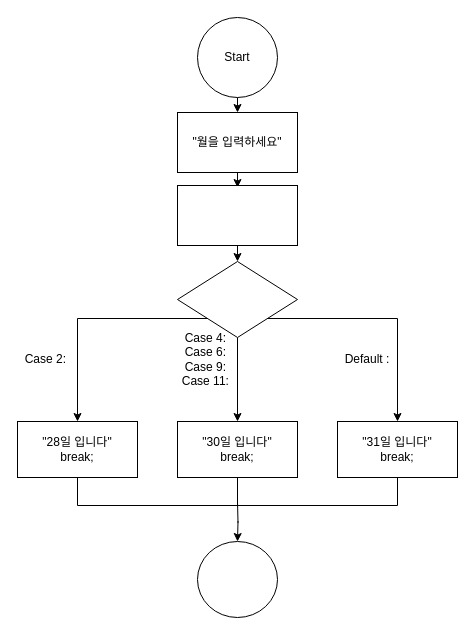
Some shapes in this 475 by 635 pixel diagram are drawn without their labels. Here are the shapes that lost their labels. From the top down, the centre of each, then its label:
(x=237, y=215): 월 입력 month
(x=237, y=299): month == ?
(x=237, y=579): end
